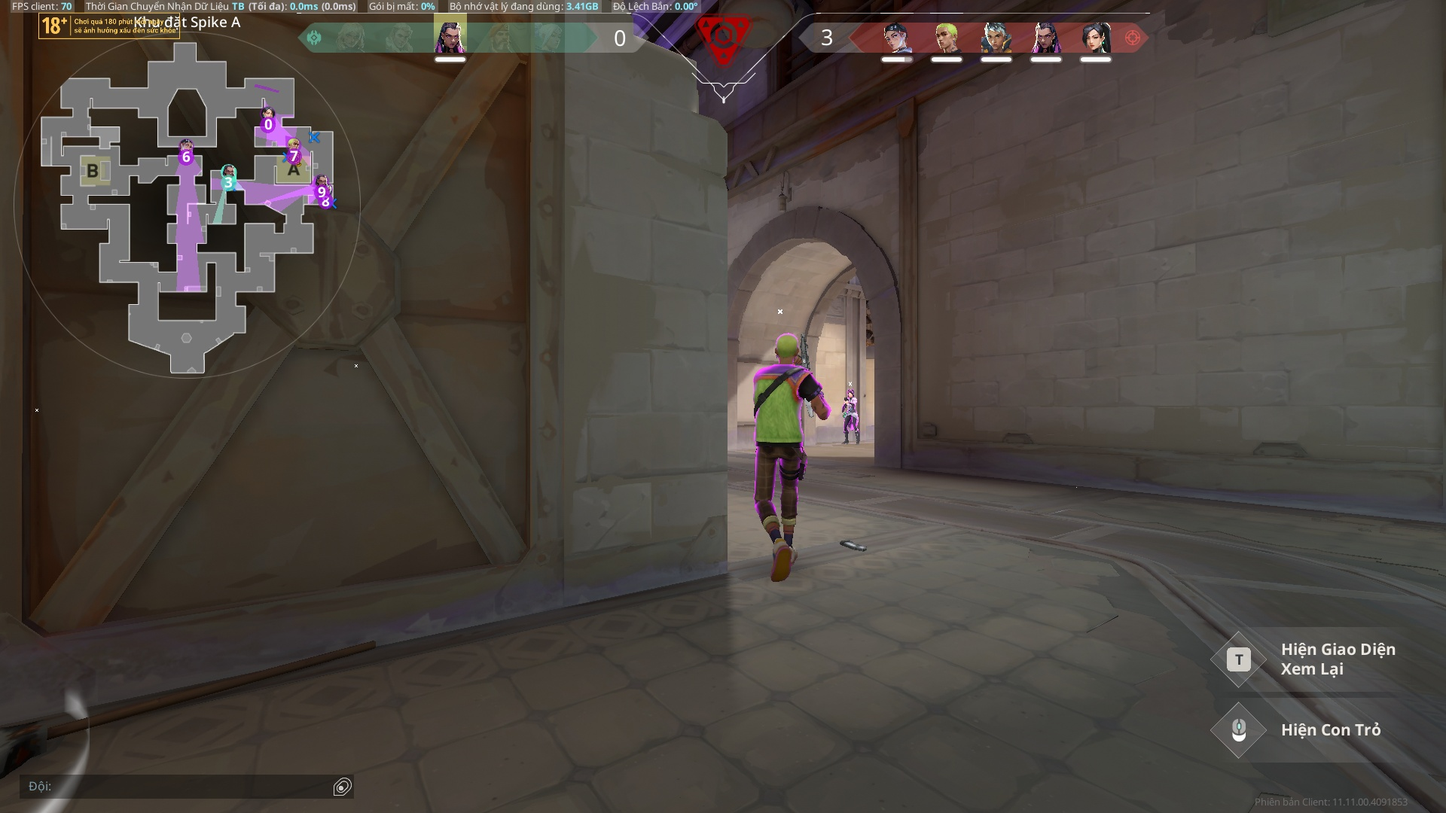body: (748, 367, 812, 447), (844, 399, 859, 413)
head: (770, 330, 804, 367), (846, 388, 855, 400)
